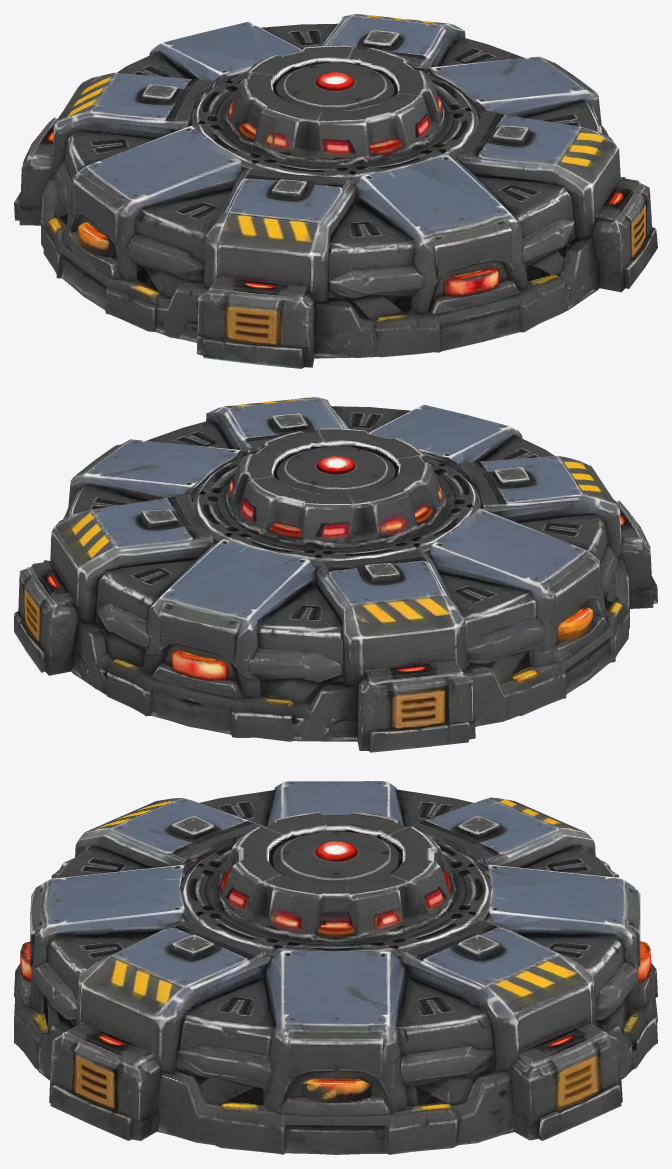
File: mine.glb
The picture shows the model from 3 angles, top to bottom: view 1: azimuth 30°, elevation 25°; view 2: azimuth 150°, elevation 25°; view 3: azimuth 270°, elevation 25°; orthographic projection. The views are drawn at different scales.
Visible parts, largest first — view 1: mesh_node; view 2: mesh_node; view 3: mesh_node.
Boxes of the visible parts, x1,y1,x2,y2 form: mesh_node: [14, 14, 657, 368]; mesh_node: [14, 397, 657, 752]; mesh_node: [14, 781, 657, 1154].
Size of the model in its own units: 1 by 0.2959 by 1.
1 material, 1 textured.
